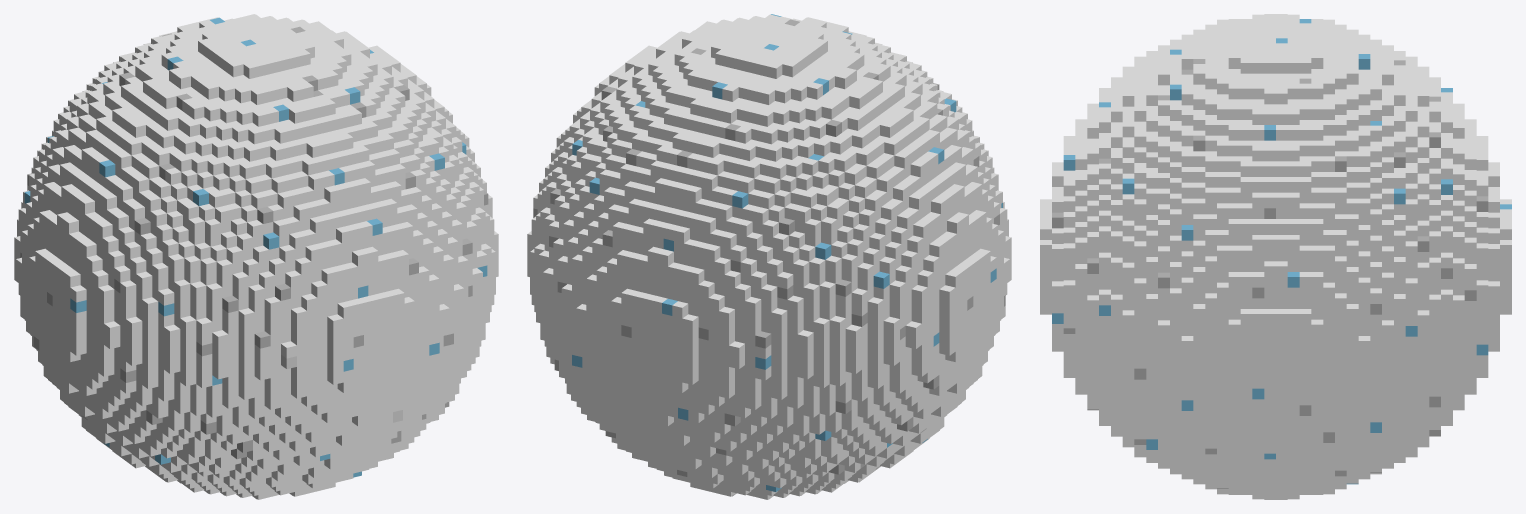
The model's file is snowball.obj.
3 views of the same model, side by side, from view 1: azimuth 30°, elevation 25°; view 2: azimuth 150°, elevation 25°; view 3: azimuth 270°, elevation 25° (orthographic).
Bounding box in the file's own units: 4 × 4 × 4.
1 material, 1 textured.
